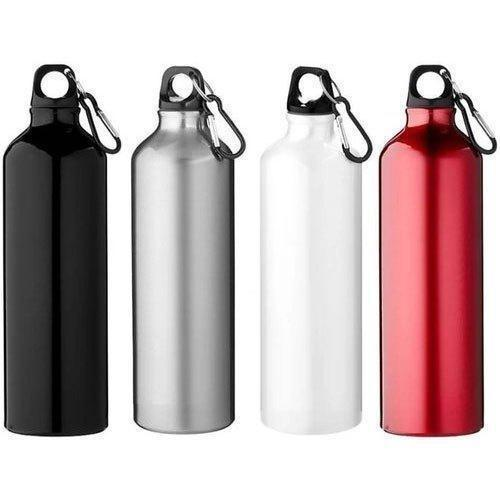gym bottle: (375, 61, 489, 439), (1, 62, 114, 438), (256, 63, 369, 437), (128, 64, 239, 436)
